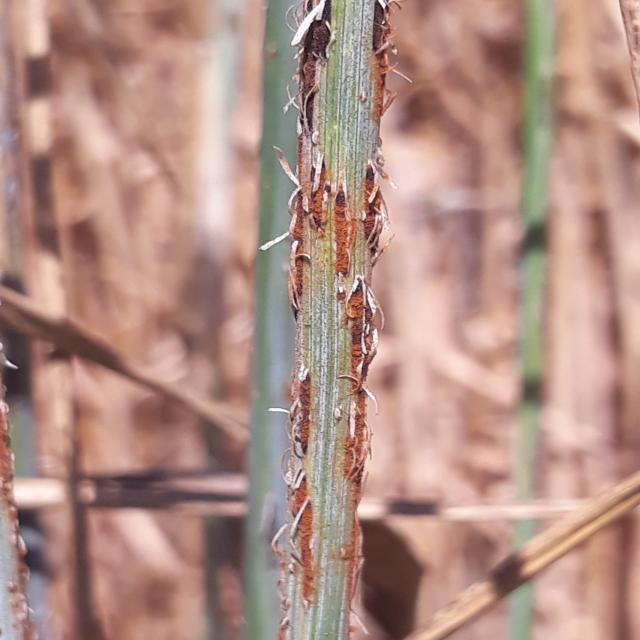black_stem_rust: (250, 0, 438, 640), (0, 339, 41, 640)
